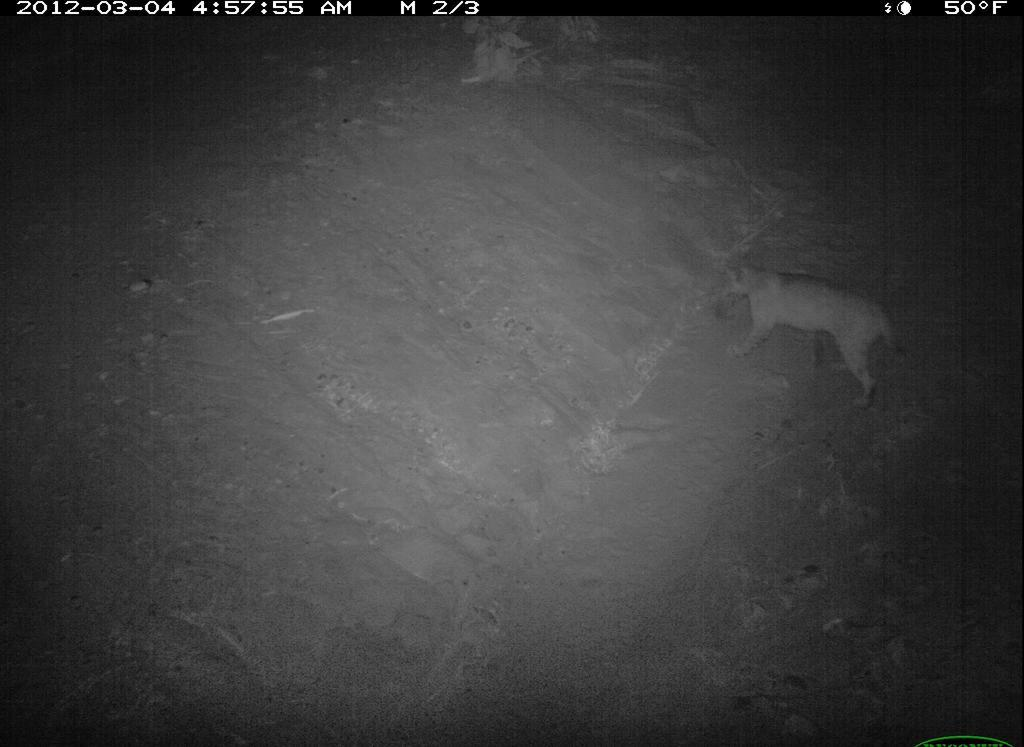bobcat: (715, 249, 918, 415)
